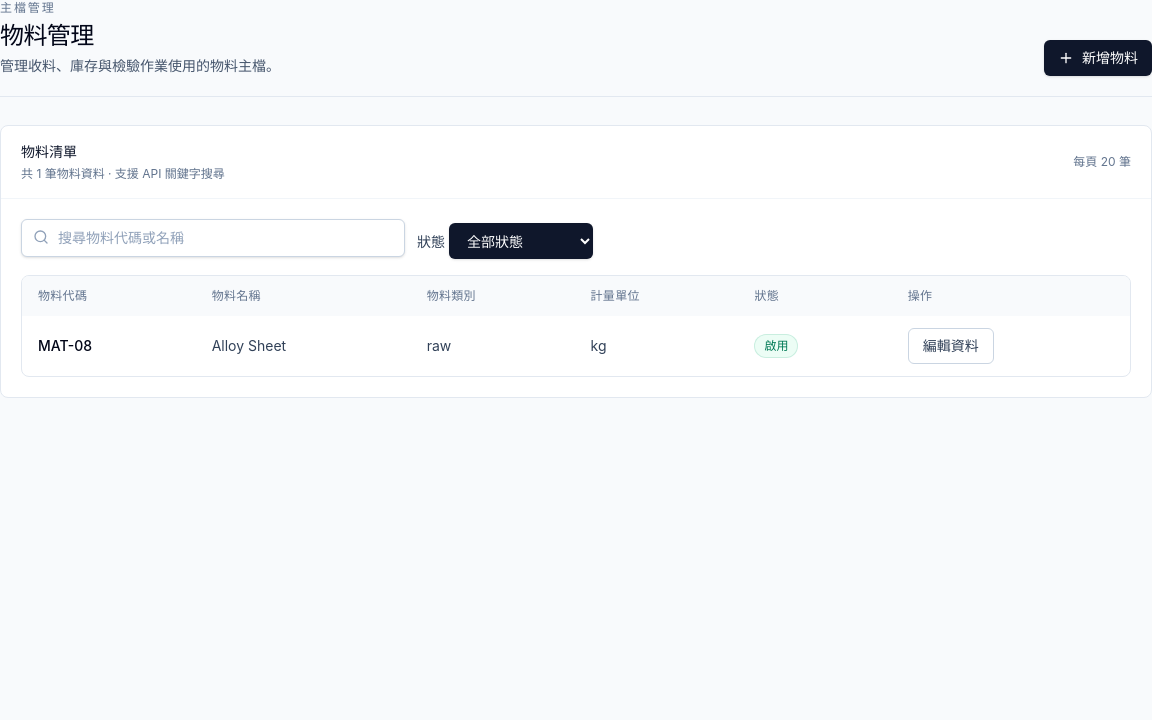
Test: material form validation › loads correct default values in create mode
Click the button "新增物料": point(1098, 58) [1044,40,1151,76]
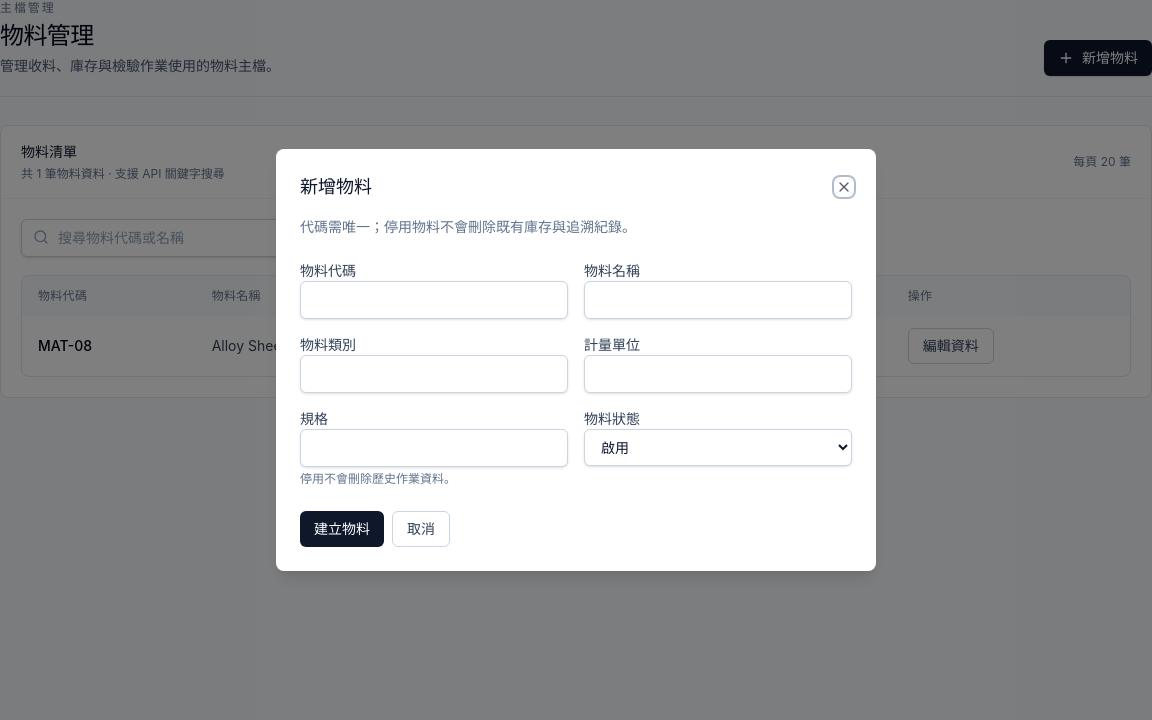
Expected: the dropdown labelled "物料狀態" shows "啟用", [584,429,852,466]
Expected: the field labelled "物料代碼" is empty, [300,281,568,319]
Expected: the field labelled "物料名稱" is empty, [584,281,852,319]
